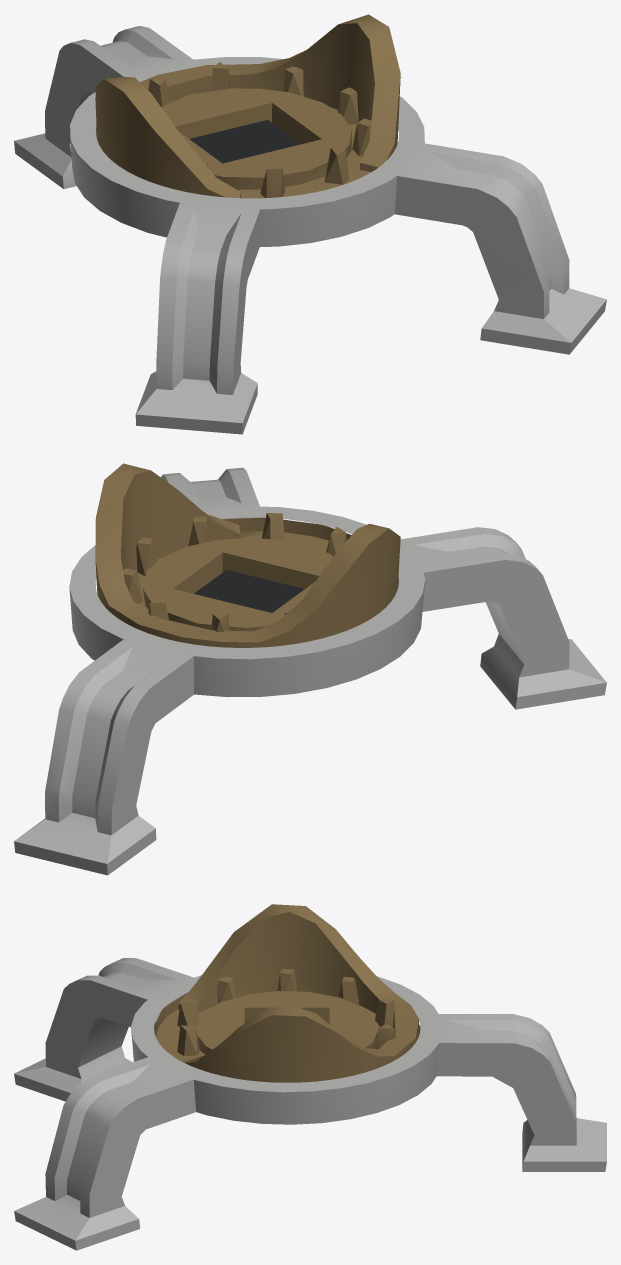
File: stack-inserter.glb
The picture shows the model from 3 angles, top to bottom: view 1: azimuth 30°, elevation 25°; view 2: azimuth 150°, elevation 25°; view 3: azimuth 270°, elevation 25°; orthographic projection. The views are drawn at different scales.
Parts seen in each view (by area): view 1: body; view 2: body; view 3: body.
Boxes of the visible parts, x1,y1,x2,y2 form: body: (14, 14, 606, 434); body: (14, 463, 606, 875); body: (14, 904, 606, 1250).
Size of the model in its own units: 0.9048 by 0.4168 by 1.15.
